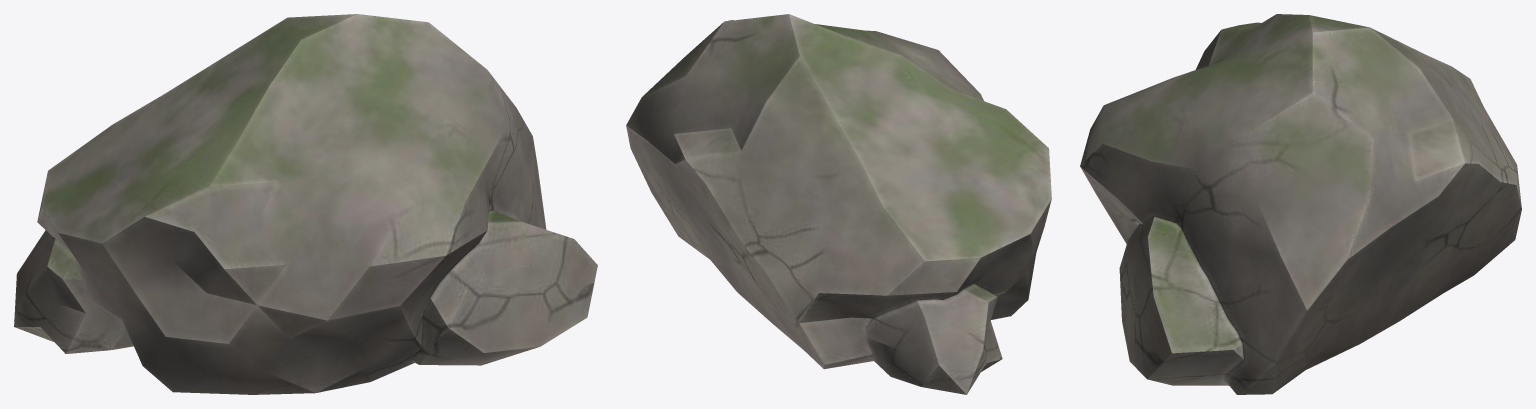
File: boulder.glb
3 renders of one model, left to right at view 1: azimuth 30°, elevation 25°; view 2: azimuth 150°, elevation 25°; view 3: azimuth 270°, elevation 25°, orthographic. The views are drawn at different scales.
Visible parts, largest first — view 1: Boulder; view 2: Boulder; view 3: Boulder.
Part boxes in pixels (bbox=[...]): Boulder: bbox=[14, 14, 597, 394]; Boulder: bbox=[626, 14, 1051, 394]; Boulder: bbox=[1080, 14, 1521, 394].
Size of the model in its own units: 2.69 by 1.69 by 2.25.
Materials: 1 (1 with a texture image).
